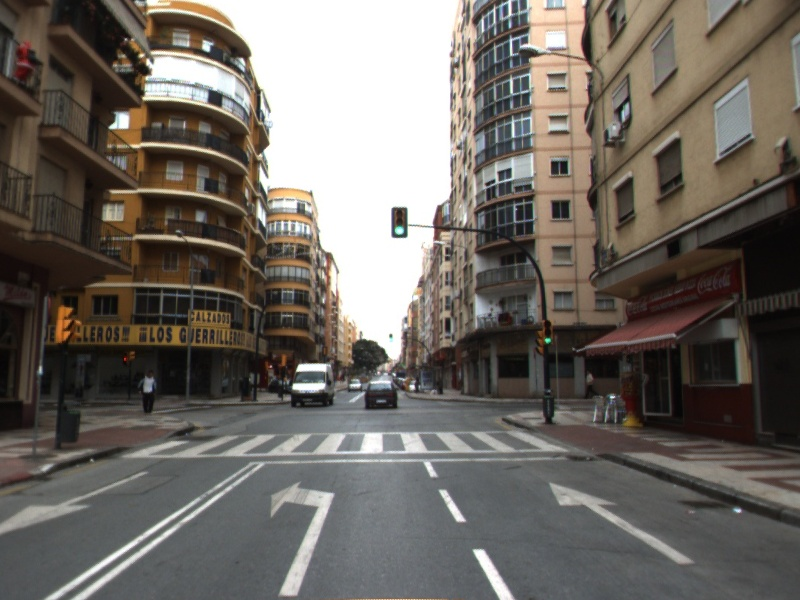LEFT: (268, 479, 337, 598)
STRAIGHT: (548, 481, 697, 566)
